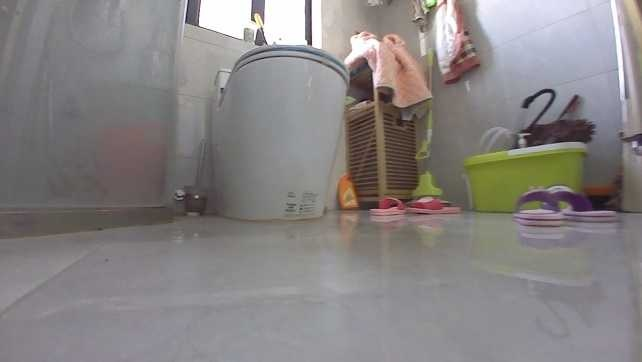slipper: (511, 179, 620, 227), (405, 194, 459, 214), (368, 192, 402, 216)
toilet: (199, 37, 349, 222)
